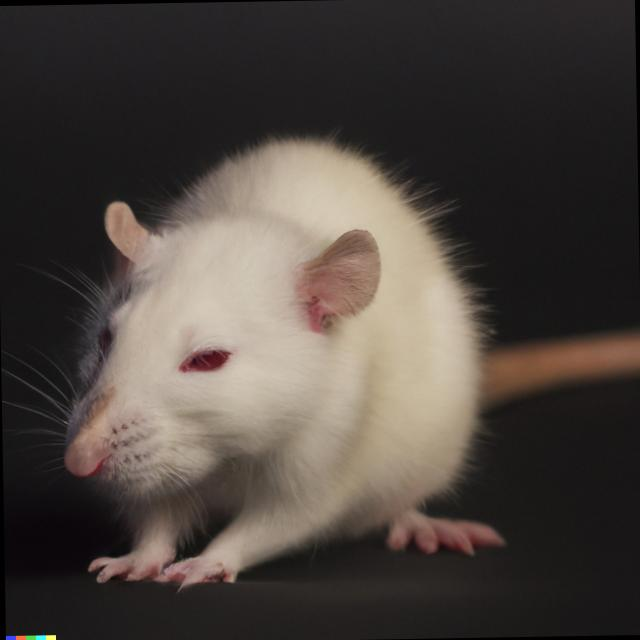rodents: (51, 112, 498, 598)
